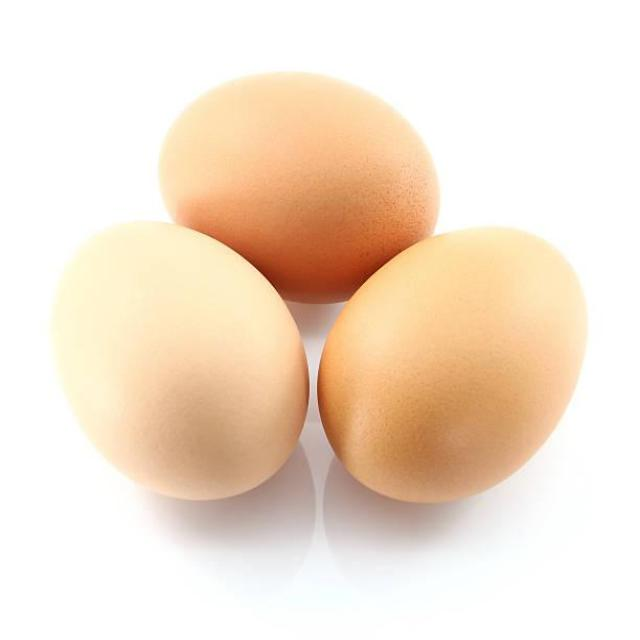Egg: (318, 229, 587, 501), (51, 222, 307, 500), (160, 73, 438, 301)
